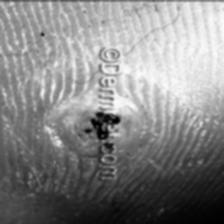Toxin: (61, 90, 138, 160)
